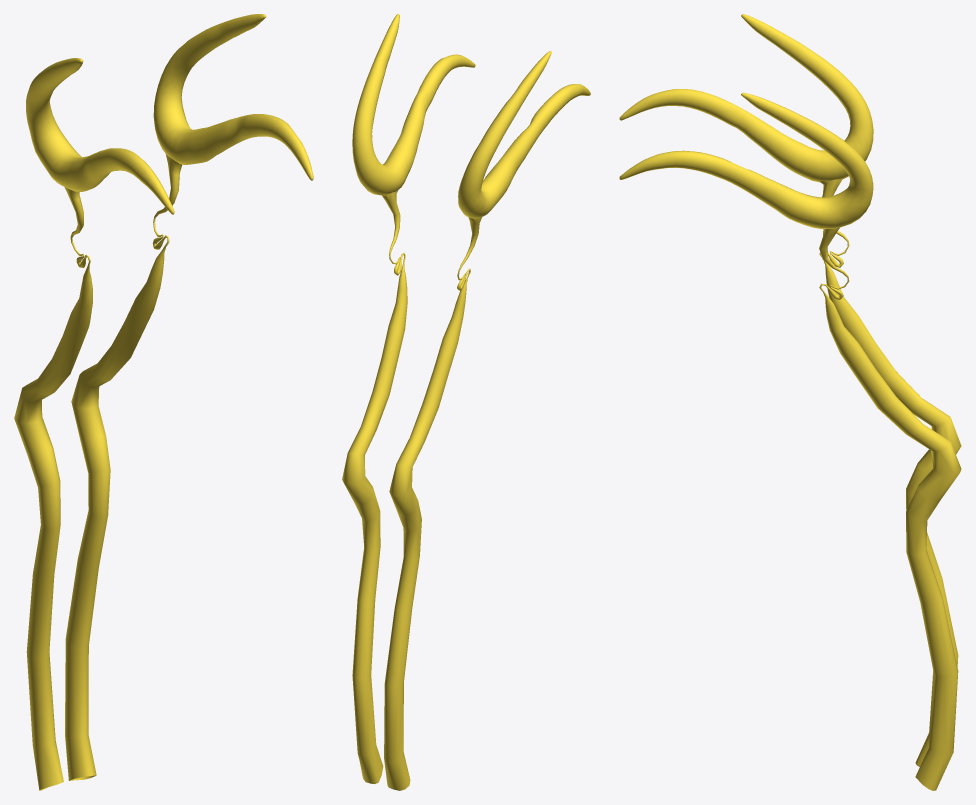
File: 女性_神经系统_杏仁核.fbx
3 views of the same model, side by side, from view 1: azimuth 30°, elevation 25°; view 2: azimuth 150°, elevation 25°; view 3: azimuth 270°, elevation 25° (orthographic). The views are drawn at different scales.
Parts seen in each view (by area): view 1: 女性_神经系统_杏仁核; view 2: 女性_神经系统_杏仁核; view 3: 女性_神经系统_杏仁核.
Boxes of the visible parts, bbox=[...] form: 女性_神经系统_杏仁核: bbox=[14, 14, 313, 790]; 女性_神经系统_杏仁核: bbox=[342, 14, 590, 790]; 女性_神经系统_杏仁核: bbox=[619, 14, 961, 790].
Bounding box in the file's own units: 2.15 × 9.05 × 3.85.
